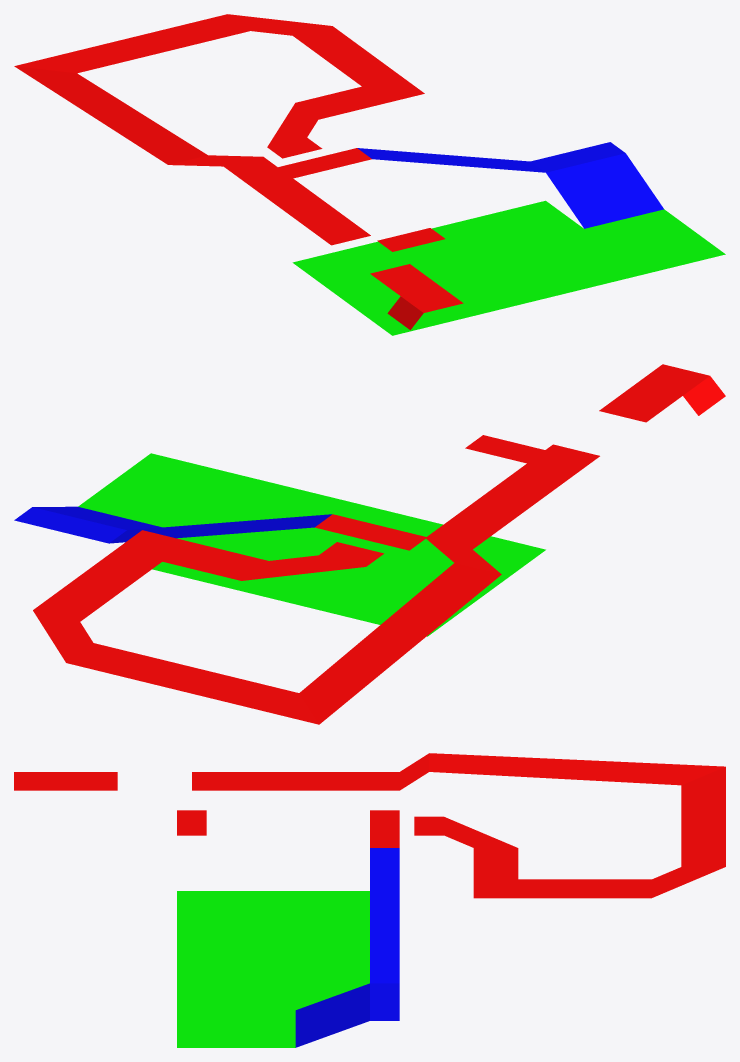
Rendered from PisoSala2.glb.
3 views of the same model, one above another, from view 1: azimuth 30°, elevation 25°; view 2: azimuth 150°, elevation 25°; view 3: azimuth 270°, elevation 25° (orthographic). The views are drawn at different scales.
Visible parts, largest first — view 1: PisoSala2; view 2: PisoSala2; view 3: PisoSala2.
Part boxes in pixels (box(x1,y1,x2,y2)): PisoSala2: box(14, 14, 725, 335); PisoSala2: box(14, 364, 725, 724); PisoSala2: box(14, 753, 725, 1047).
Bounding box in the file's own units: 32 × 7 × 48.
